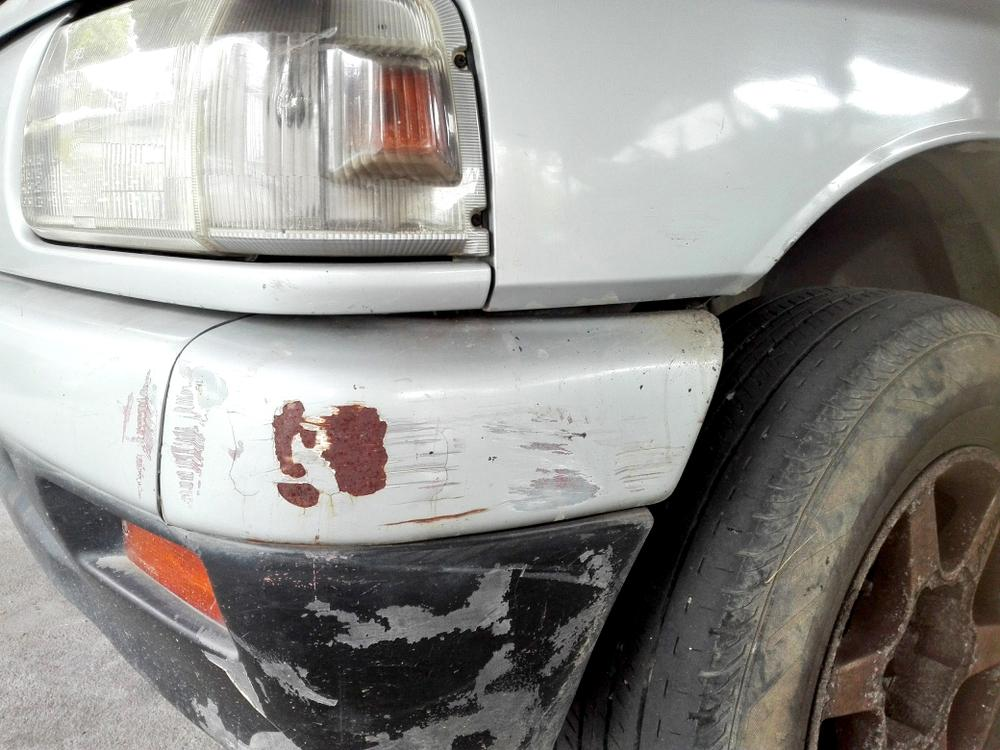scratch: (187, 540, 629, 750), (160, 361, 684, 527), (109, 368, 170, 496)
